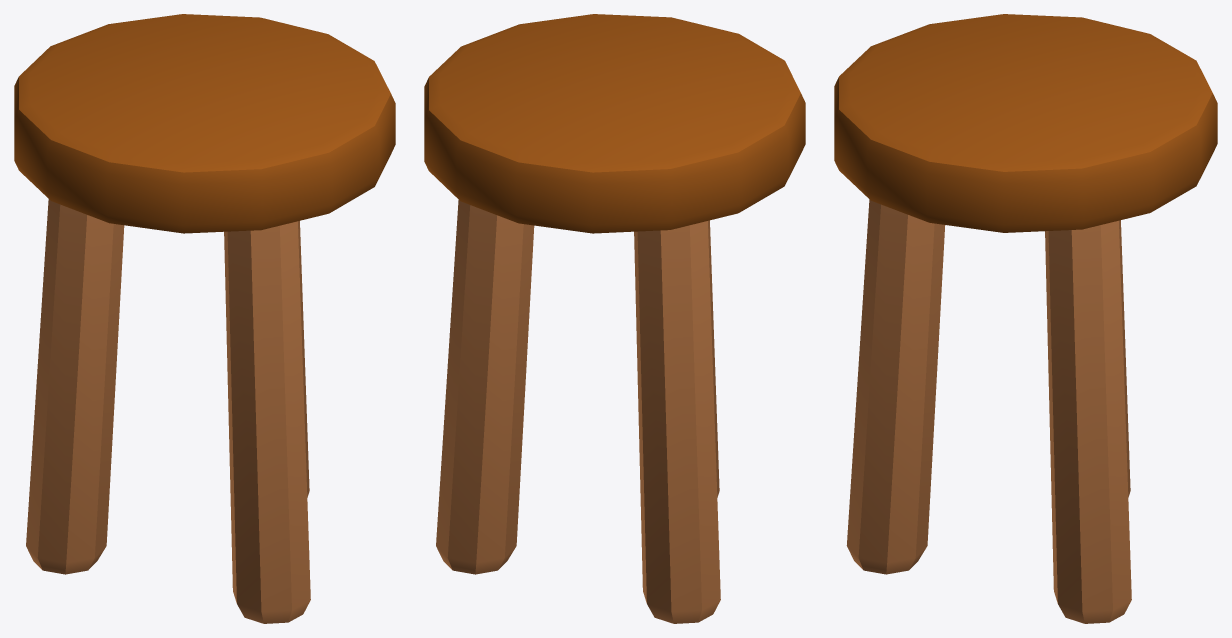
File: Stool.glb
The picture shows the model from 3 angles, left to right: view 1: azimuth 30°, elevation 25°; view 2: azimuth 150°, elevation 25°; view 3: azimuth 270°, elevation 25°; orthographic projection.
Visible parts, largest first — view 1: Stool; view 2: Stool; view 3: Stool.
Part boxes in pixels (x1,y1,x2,y2): Stool: (14,14,395,623); Stool: (424,14,805,623); Stool: (834,14,1217,623).
Bounding box in the file's own units: 0.5 × 0.6792 × 0.5.
Materials: 1 (1 with a texture image).
